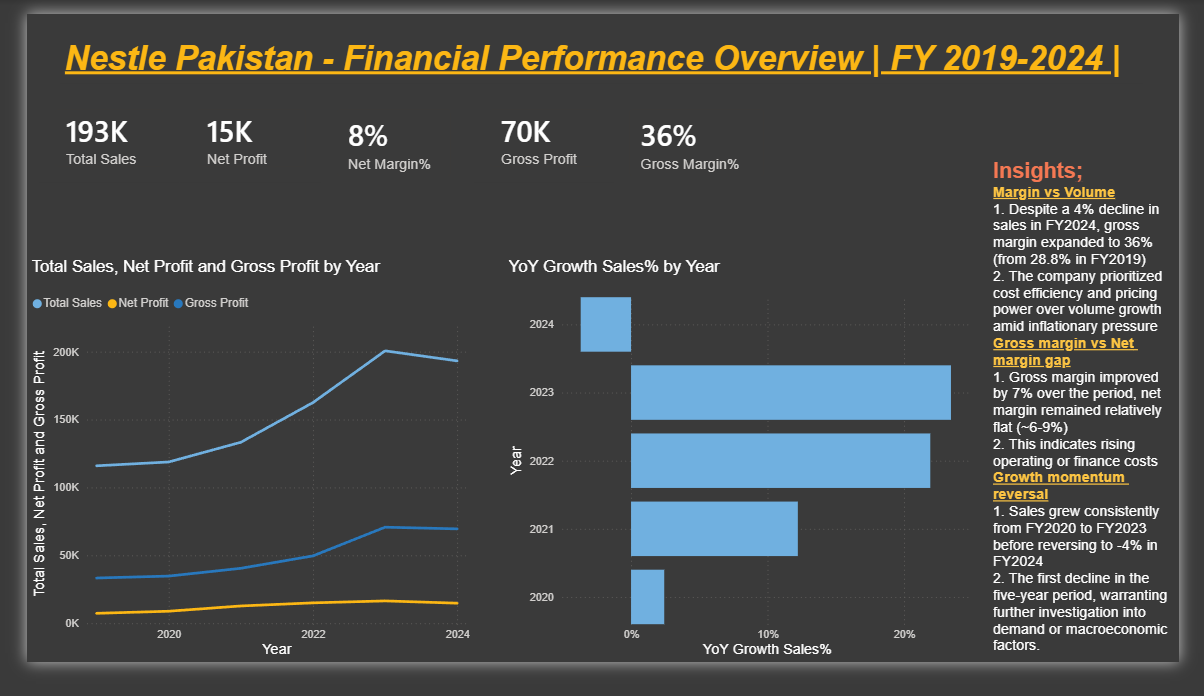

This screenshot's page, from the dashboard's own definition file:
{"tool":"powerbi","page":{"name":"OverView","canvas":[1280,720],"ordinal":1},"visuals":[{"type":"cardVisual","fields":{"Data":["Nestle Pakistan 6 yr Summary.Total Sales"]},"box":[12.5,87.8,155.6,98.4],"z":0},{"type":"cardVisual","fields":{"Data":["Nestle Pakistan 6 yr Summary.Net Profit"]},"box":[170.5,87.8,157.1,98.4],"z":1000},{"type":"cardVisual","fields":{"Data":["Nestle Pakistan 6 yr Summary.Gross Margin%"]},"box":[651.4,87.8,184.1,109.5],"z":2000},{"type":"cardVisual","fields":{"Data":["Nestle Pakistan 6 yr Summary.Net Margin%"]},"box":[326,87.8,161.9,109.5],"z":3000},{"type":"cardVisual","fields":{"Data":["Nestle Pakistan 6 yr Summary.Gross Profit"]},"box":[495.9,87.8,155.6,98.4],"z":4000},{"type":"lineChart","fields":{"Category":["Year Table.Year"],"Y":["Nestle Pakistan 6 yr Summary.Total Sales","Nestle Pakistan 6 yr Summary.Net Profit","Nestle Pakistan 6 yr Summary.Gross Profit"]},"box":[0,270,496.7,450],"z":5000},{"type":"textbox","box":[36.7,21.7,1203.3,55],"z":6000},{"type":"clusteredBarChart","fields":{"Category":["Year Table.Year"],"Y":["Nestle Pakistan 6 yr Summary.YoY Growth Sales%"]},"box":[530,270,538,450],"z":7000},{"type":"textbox","box":[1068.3,155,211.7,565],"z":8000}]}

Visuals, with their boxes in screenshot pixels (x1, y1, x2, y2), scaled from the page's 1280x720 canvas onto the 1204x696 screenshot:
cardVisual - Nestle Pakistan 6 yr Summary.Total Sales: 12, 85, 158, 180
cardVisual - Nestle Pakistan 6 yr Summary.Net Profit: 160, 85, 308, 180
cardVisual - Nestle Pakistan 6 yr Summary.Gross Margin%: 613, 85, 786, 191
cardVisual - Nestle Pakistan 6 yr Summary.Net Margin%: 307, 85, 459, 191
cardVisual - Nestle Pakistan 6 yr Summary.Gross Profit: 466, 85, 613, 180
lineChart - Year Table.Year x Nestle Pakistan 6 yr Summary.Total Sales: 0, 261, 467, 695
textbox: 35, 21, 1166, 74
clusteredBarChart - Year Table.Year x Nestle Pakistan 6 yr Summary.YoY Growth Sales%: 499, 261, 1005, 695
textbox: 1005, 150, 1203, 695
